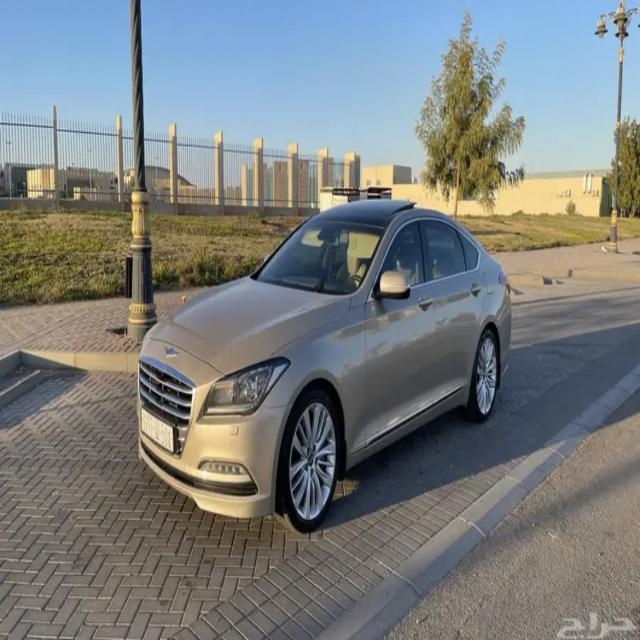license_plate: (140, 406, 175, 454)
